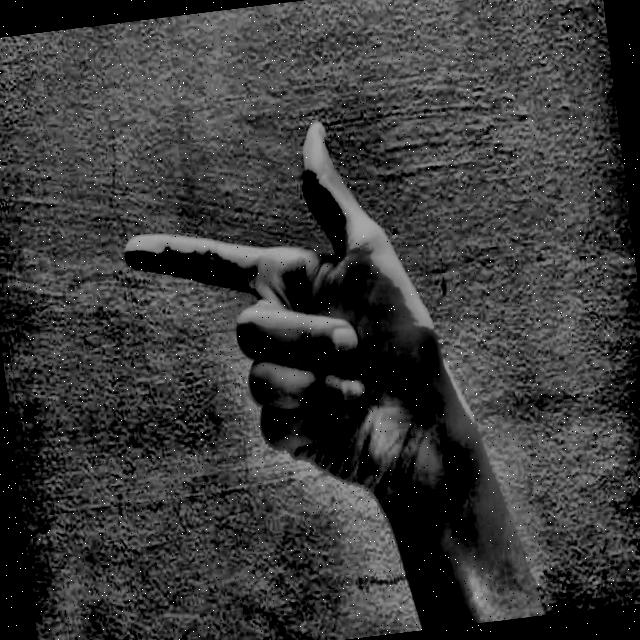Tho: (87, 63, 527, 546)
